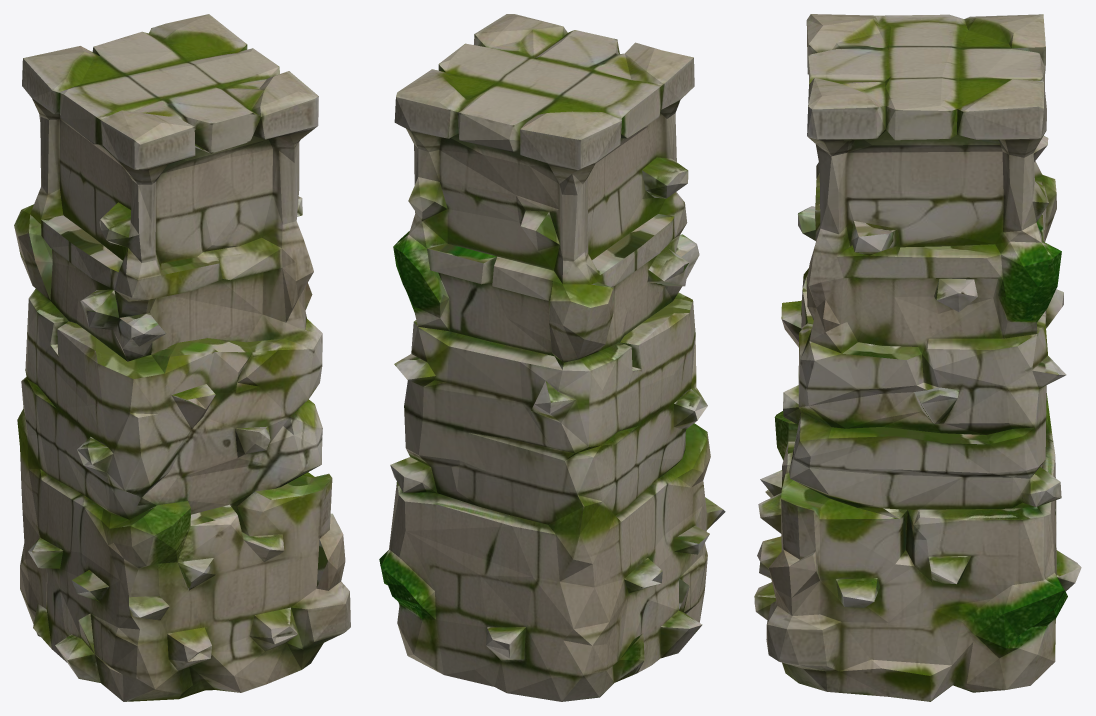
The model's file is citadel_wall.glb.
3 renders of one model, left to right at view 1: azimuth 30°, elevation 25°; view 2: azimuth 150°, elevation 25°; view 3: azimuth 270°, elevation 25°, orthographic. The views are drawn at different scales.
Parts seen in each view (by area): view 1: tmpo6motdub.ply; view 2: tmpo6motdub.ply; view 3: tmpo6motdub.ply.
Part boxes in pixels (<box>): tmpo6motdub.ply: <box>14,14,350,701</box>; tmpo6motdub.ply: <box>379,14,725,701</box>; tmpo6motdub.ply: <box>754,14,1081,701</box>.
Size of the model in its own units: 0.9421 by 1.99 by 0.992.
Materials: 1 (1 with a texture image).
